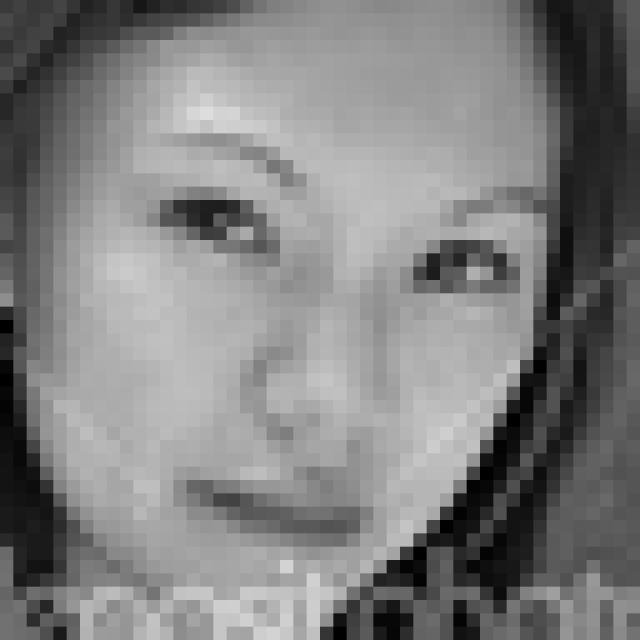neutral: (152, 128, 548, 560)
